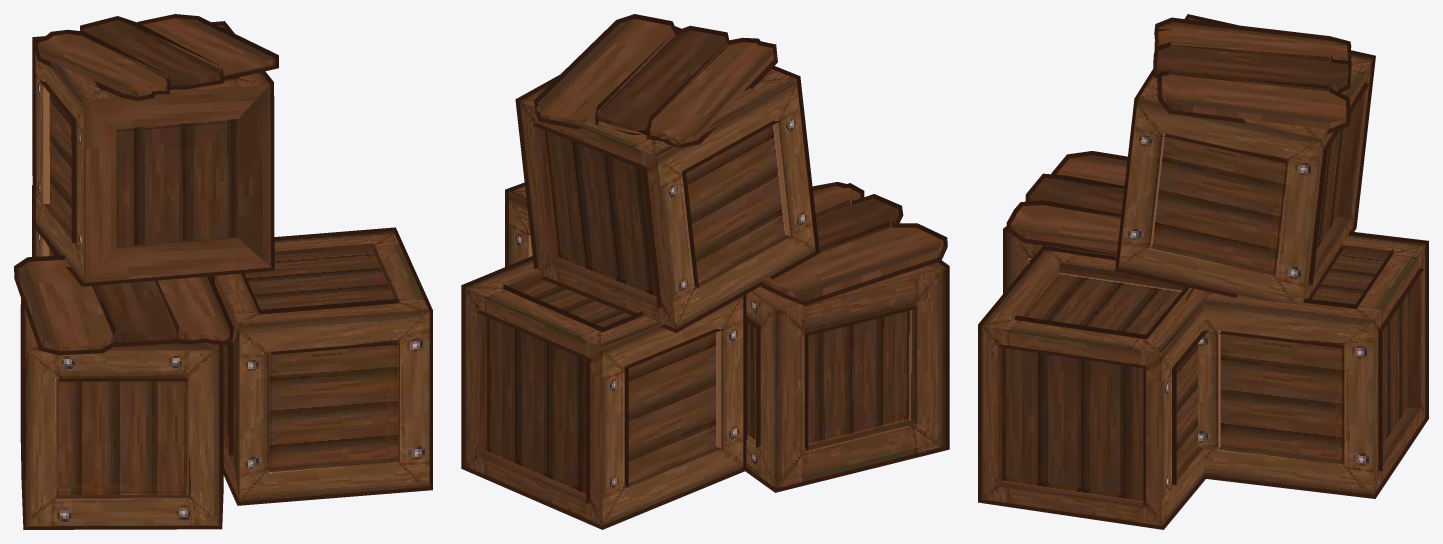
File: stack_crates.glb
The picture shows the model from 3 angles, left to right: view 1: azimuth 30°, elevation 25°; view 2: azimuth 150°, elevation 25°; view 3: azimuth 270°, elevation 25°; orthographic projection. The views are drawn at different scales.
Visible parts, largest first — view 1: Object_4, Object_5; view 2: Object_4, Object_5; view 3: Object_4, Object_5.
Part boxes in pixels (x1,y1,x2,y2): Object_4: [17, 18, 429, 526]; Object_5: [14, 14, 432, 529]; Object_4: [465, 19, 945, 525]; Object_5: [461, 14, 949, 529]; Object_4: [981, 18, 1425, 525]; Object_5: [978, 14, 1428, 529].
Bounding box in the file's own units: 6.16 × 5.64 × 6.01.
Materials: 2 (1 with a texture image).
